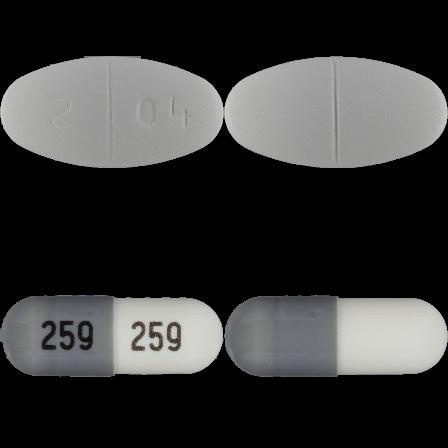62756-204: (0, 0, 224, 224)
